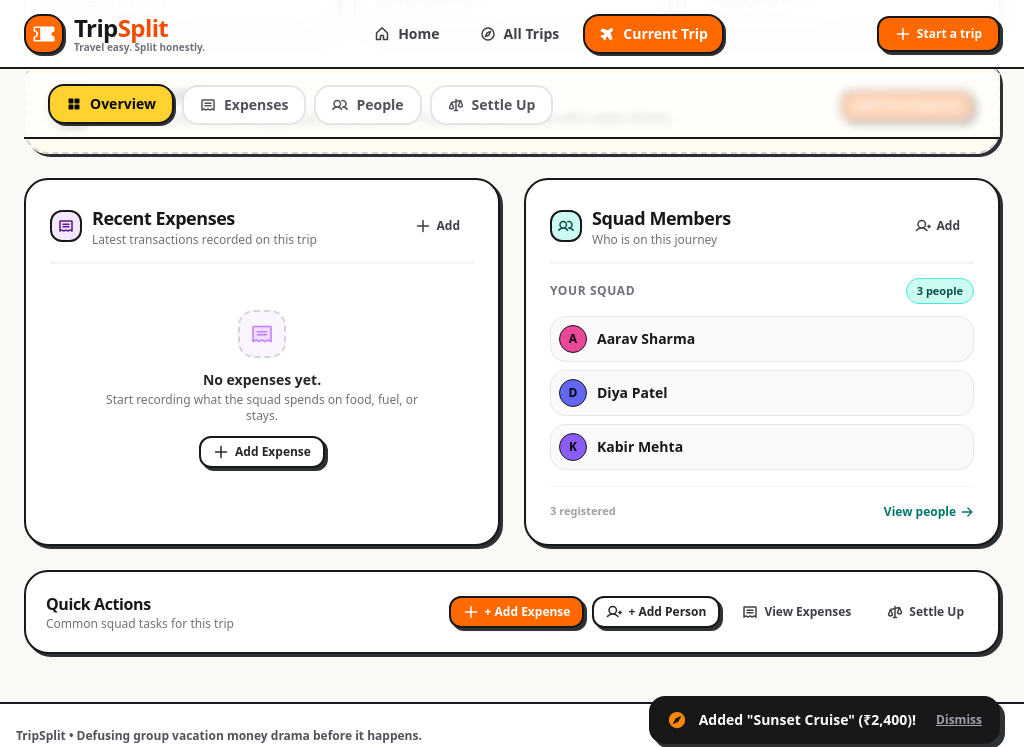
it: Trip Dashboard & Financial Integration Tests (Step 7) › 15. adding a participant immediately updates people count on dashboard
(page scrolled)
# Open Add Person modal
Click the button "+ Add Person" at (656, 612), box [592,596,720,628]
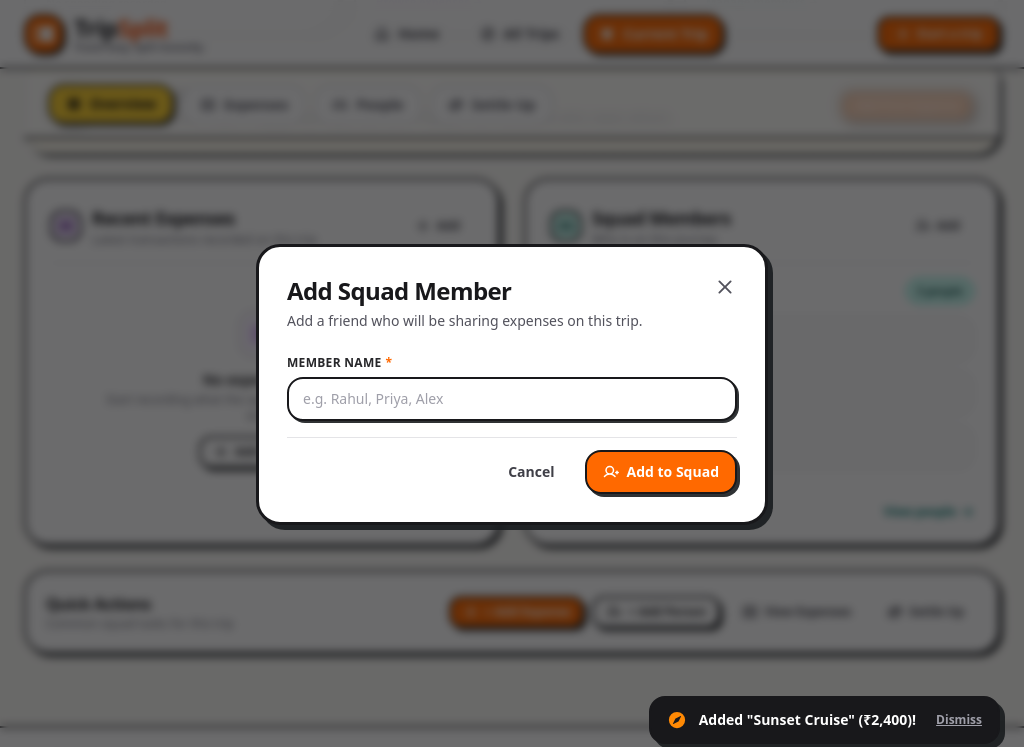
# Fill name
Type "Rohan Sen" into the field labelled "Member Name *" at (512, 398), box [287,376,737,420]
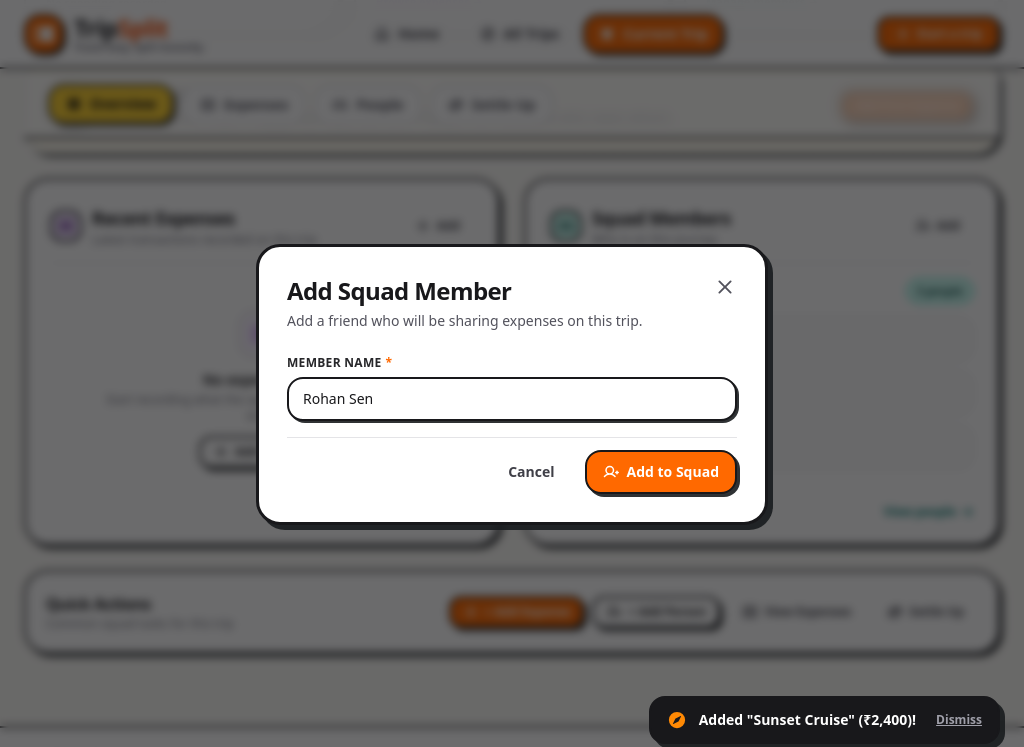
Click the button "Add to Squad" at (661, 472), box [584,450,737,494]
(page scrolled)
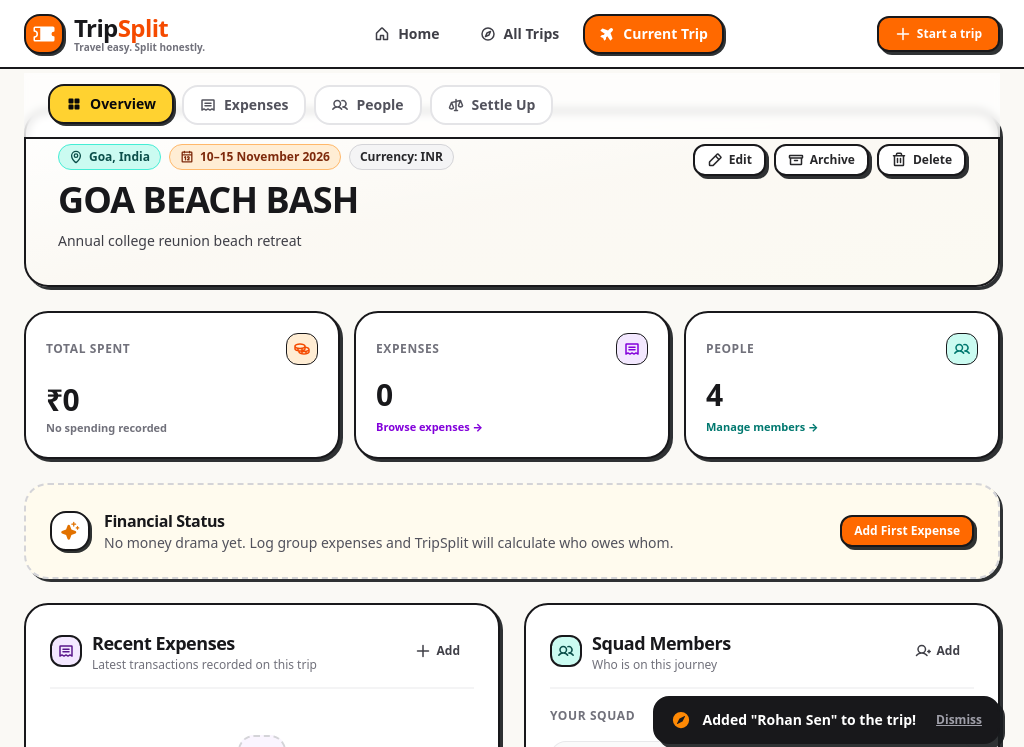
Check: the element with test id "stats-tile-people" shows "4", box [706,374,722,415]
